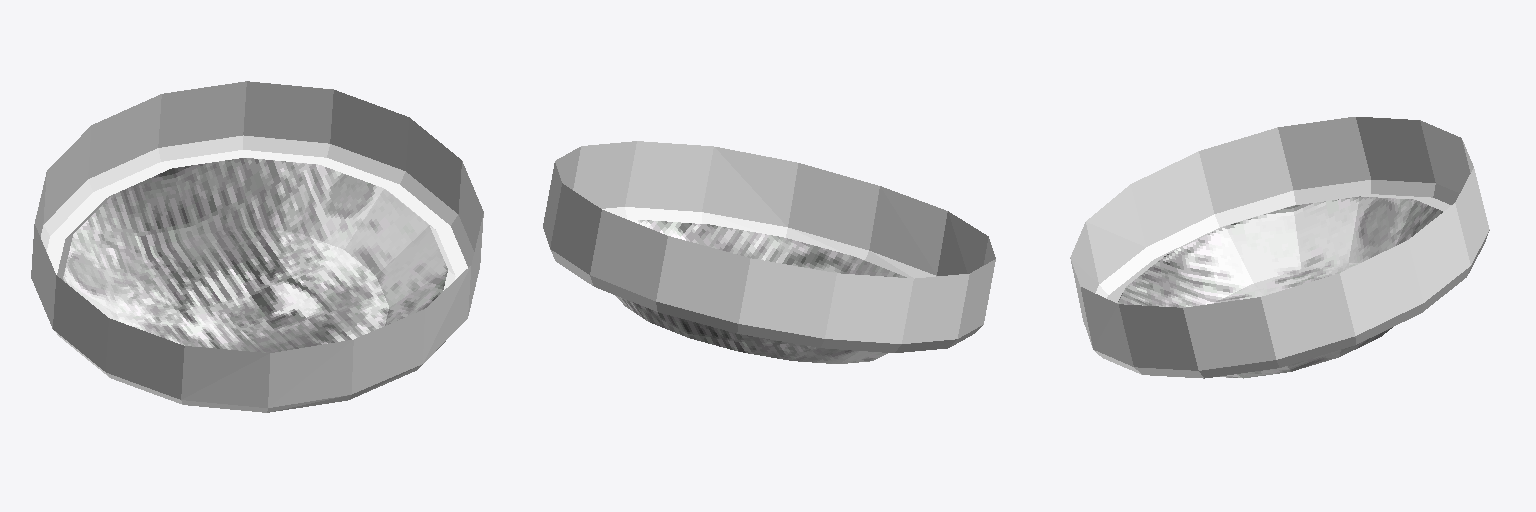
The picture shows the model from 3 angles: view 1: azimuth 30°, elevation 25°; view 2: azimuth 150°, elevation 25°; view 3: azimuth 270°, elevation 25°; orthographic projection.
Visible parts, largest first — view 1: Object.2, Object.1; view 2: Object.2, Object.1; view 3: Object.2, Object.1.
Part boxes in pixels (left/top/right/bottom): Object.2: left=31, top=81, right=483, bottom=412; Object.1: left=63, top=158, right=447, bottom=352; Object.2: left=543, top=141, right=995, bottom=352; Object.1: left=615, top=220, right=906, bottom=363; Object.2: left=1070, top=117, right=1489, bottom=378; Object.1: left=1117, top=196, right=1442, bottom=378.
Bounding box in the file's own units: 1.46 × 0.6342 × 1.32.
Materials: 2 (1 with a texture image).